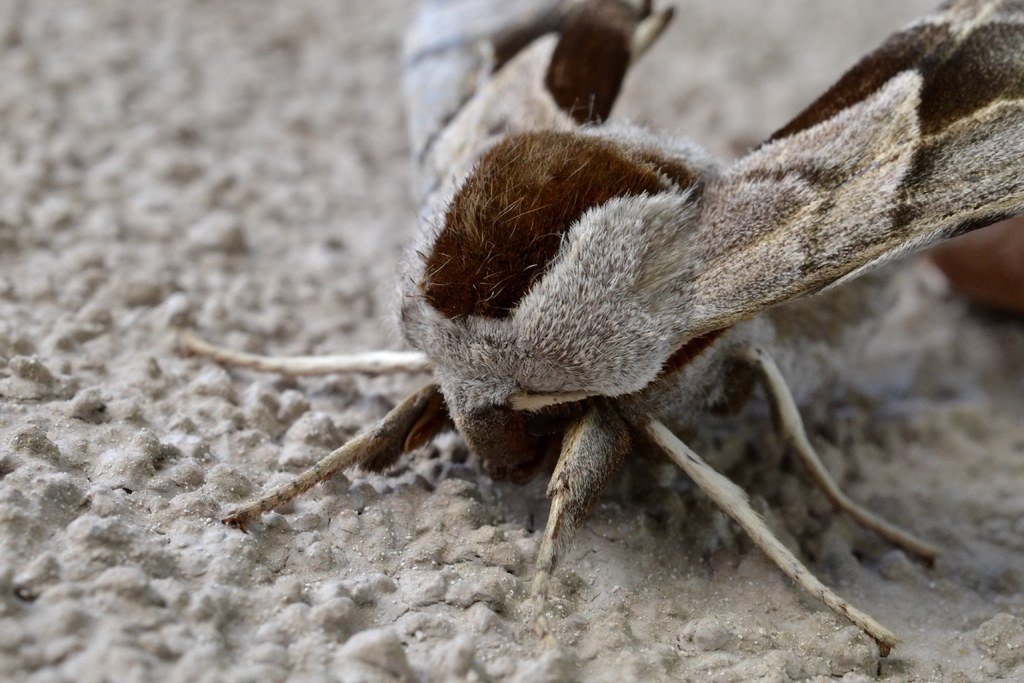insect: (168, 0, 1023, 661)
